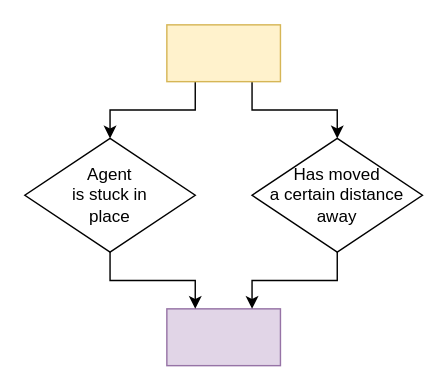
Some shapes in this 447 by 391 pixel diagram are drawn without their labels. The centre of each missing label's shape, as x and y in pixels:
"Flee" belongs at [222,52].
"Search For Hardpoint" belongs at [222,336].
